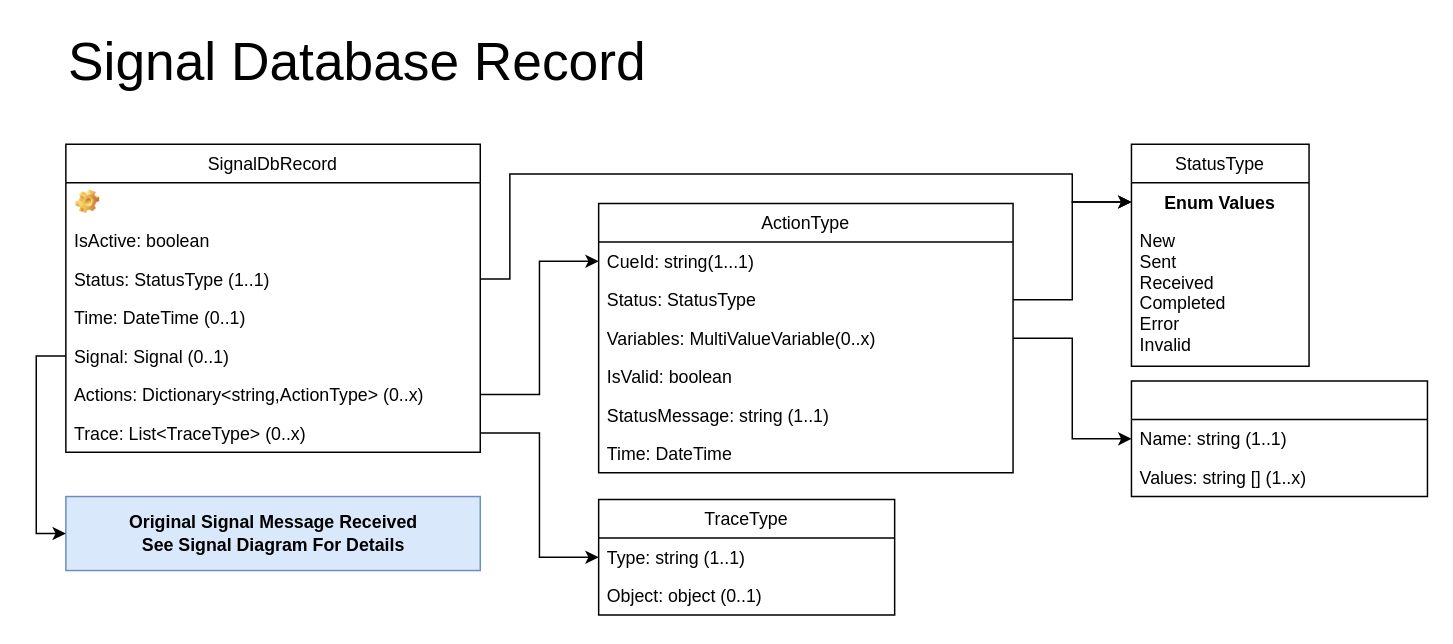
Some shapes in this 1453 by 644 pixel diagram are drawn without their labels. The box of each missing label's shape, as (x1, y1, x2, y2) in pixels:
Id: string(1..1): (65, 182, 480, 221)
MultiValueVariable: (1130, 380, 1427, 497)
